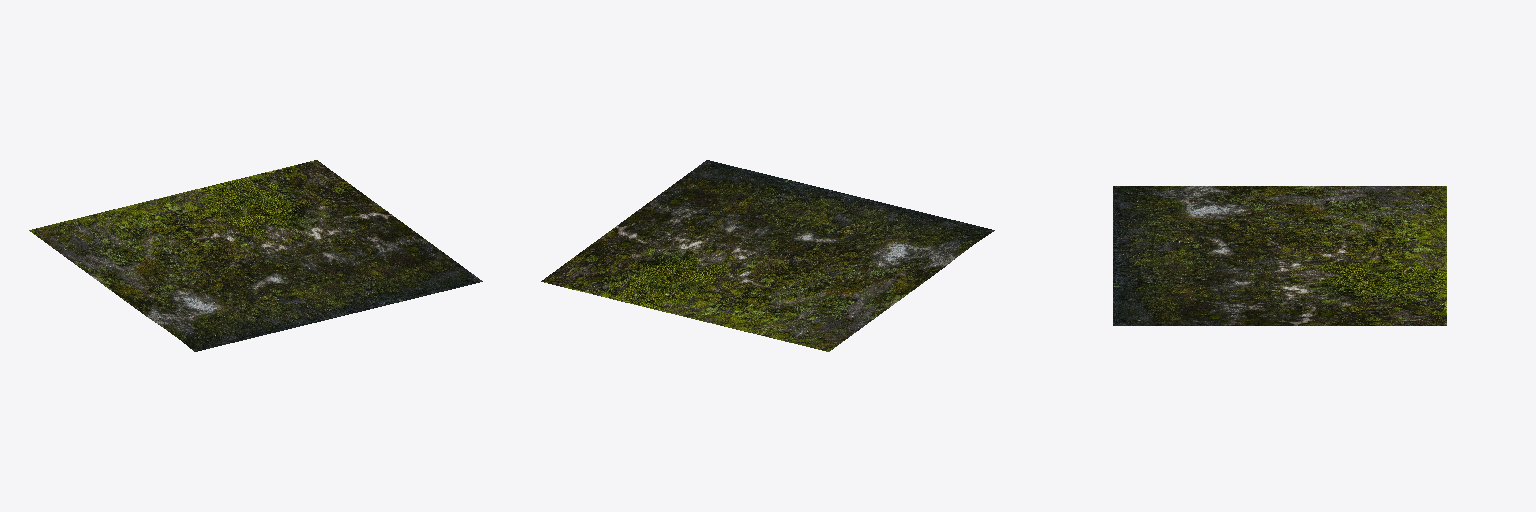
The picture shows the model from 3 angles: view 1: azimuth 30°, elevation 25°; view 2: azimuth 150°, elevation 25°; view 3: azimuth 270°, elevation 25°; orthographic projection.
Visible parts, largest first — view 1: pPlane1; view 2: pPlane1; view 3: pPlane1.
Part boxes in pixels (bbox=[...]): pPlane1: bbox=[29, 160, 482, 351]; pPlane1: bbox=[541, 160, 994, 351]; pPlane1: bbox=[1113, 186, 1446, 325].
Bounding box in the file's own units: 21861 × 0 × 21861.
Materials: 1 (1 with a texture image).